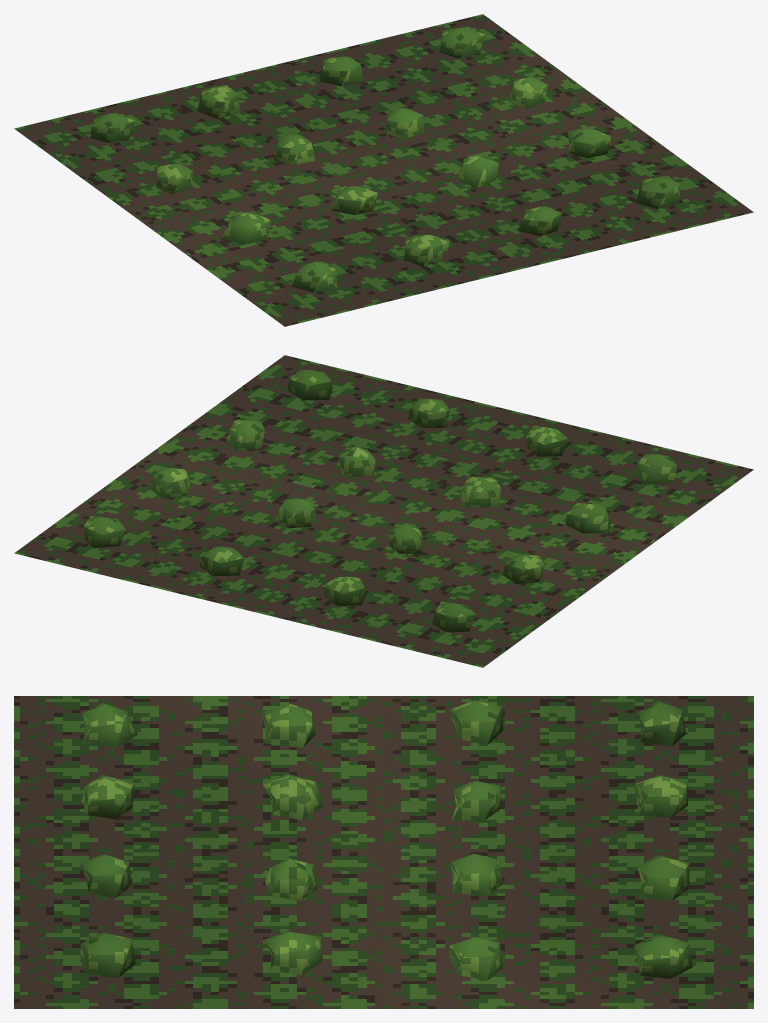
Rendered from mnat.field__cabbage.glb.
3 renders of one model, top to bottom at view 1: azimuth 30°, elevation 25°; view 2: azimuth 150°, elevation 25°; view 3: azimuth 270°, elevation 25°, orthographic. The views are drawn at different scales.
Parts seen in each view (by area): view 1: kit_shell_soil, kit_crop; view 2: kit_shell_soil, kit_crop; view 3: kit_shell_soil, kit_crop.
Boxes of the visible parts, <box> form: kit_shell_soil: <box>14,14,753,326</box>; kit_crop: <box>90,27,680,292</box>; kit_shell_soil: <box>14,355,753,667</box>; kit_crop: <box>83,369,677,632</box>; kit_shell_soil: <box>14,696,753,1008</box>; kit_crop: <box>80,700,692,980</box>.
Size of the model in its own units: 8 by 0.48 by 8.
Materials: 2 (2 with a texture image).
